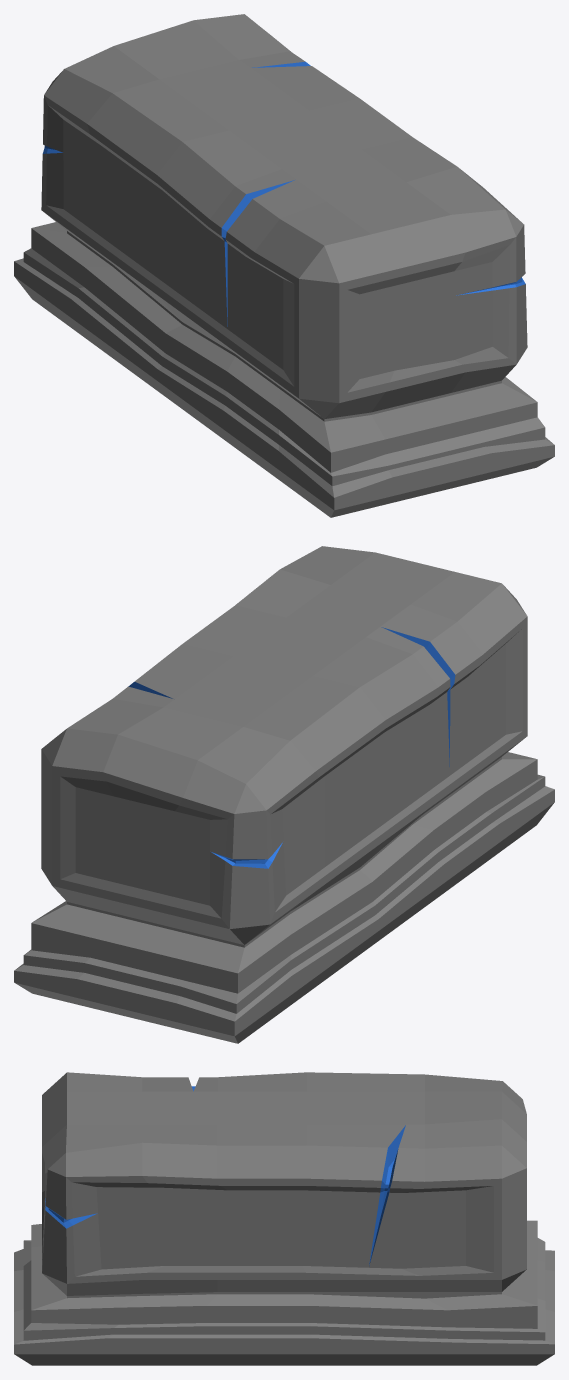
Rendered from StoneAltar.fbx.
3 renders of one model, top to bottom at view 1: azimuth 30°, elevation 25°; view 2: azimuth 150°, elevation 25°; view 3: azimuth 270°, elevation 25°, orthographic. The views are drawn at different scales.
Visible parts, largest first — view 1: StoneAltar; view 2: StoneAltar; view 3: StoneAltar.
Boxes of the visible parts, x1,y1,x2,y2 form: StoneAltar: [14, 14, 554, 517]; StoneAltar: [14, 546, 554, 1043]; StoneAltar: [14, 1072, 554, 1365].
Size of the model in its own units: 131 by 142 by 317.
1 material, 1 textured.
